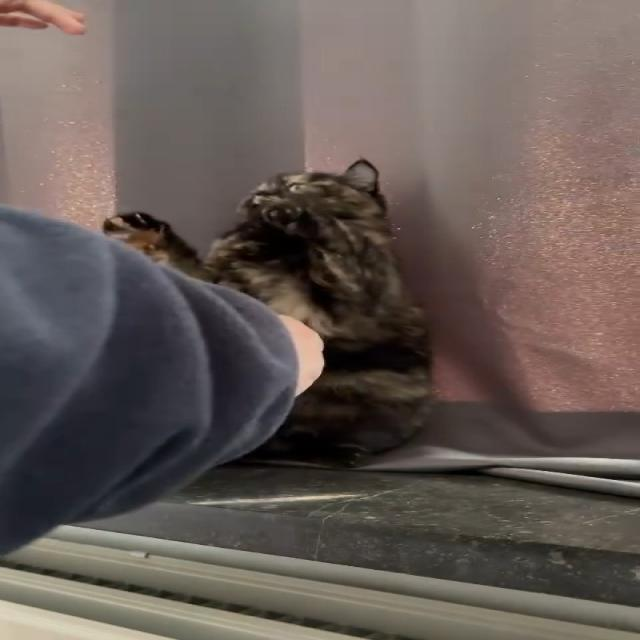authorized: (100, 157, 436, 467)
